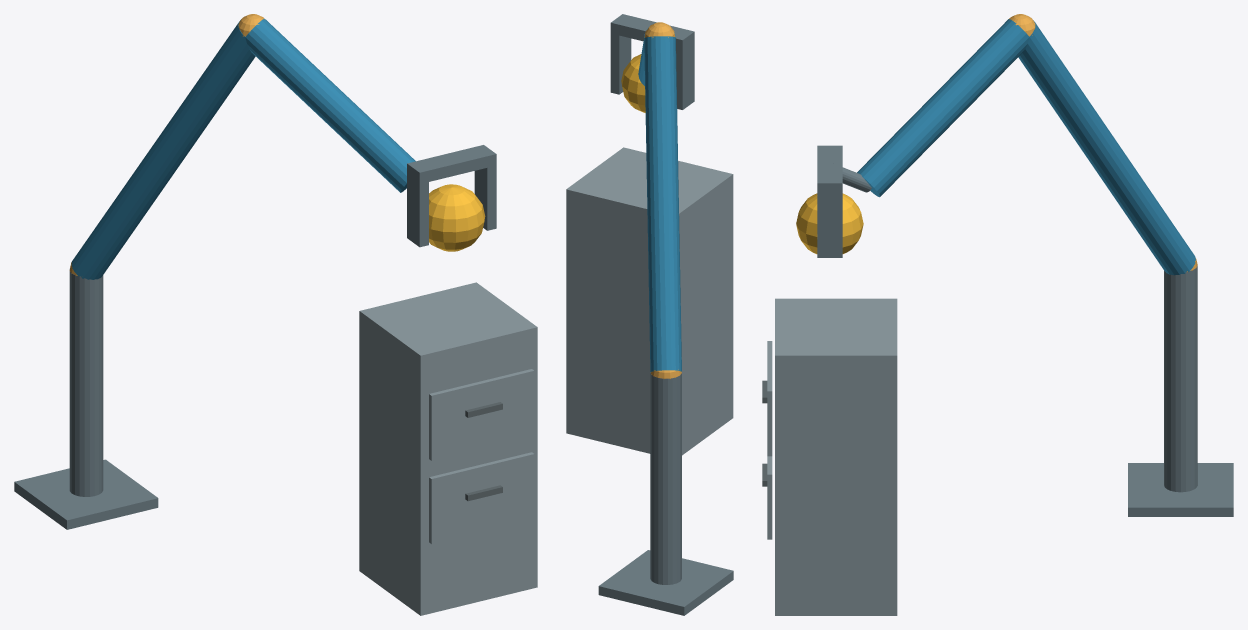
3 views of the same model, side by side, from view 1: azimuth 30°, elevation 25°; view 2: azimuth 150°, elevation 25°; view 3: azimuth 270°, elevation 25° (orthographic). The views are drawn at different scales.
Visible parts, largest first — view 1: cabinet_1 body, moving link 1, fixed post, moving link 2, cabinet_1 drawer front.001, cabinet_1 drawer front, pedestal, ball ball_1, gripper bridge, gripper finger -1, gripper finger 1; view 2: cabinet_1 body, moving link 1, fixed post, pedestal, gripper bridge, gripper finger -1, gripper finger 1, ball ball_1, joint 2; view 3: cabinet_1 body, moving link 1, moving link 2, fixed post, pedestal, ball ball_1, gripper finger 1, gripper bridge, cabinet_1 drawer front.001.
Boxes of the visible parts, left/top/right/bottom form: cabinet_1 body: left=359, top=282, right=537, bottom=615; moving link 1: left=71, top=20, right=255, bottom=279; fixed post: left=69, top=269, right=103, bottom=496; moving link 2: left=245, top=18, right=415, bottom=192; cabinet_1 drawer front.001: left=429, top=369, right=534, bottom=460; cabinet_1 drawer front: left=429, top=452, right=534, bottom=543; pedestal: left=14, top=459, right=158, bottom=529; ball ball_1: left=429, top=184, right=485, bottom=251; gripper bridge: left=407, top=145, right=496, bottom=183; gripper finger -1: left=407, top=175, right=428, bottom=247; gripper finger 1: left=474, top=165, right=496, bottom=230; cabinet_1 body: left=566, top=147, right=733, bottom=455; moving link 1: left=644, top=36, right=681, bottom=372; fixed post: left=650, top=373, right=681, bottom=584; pedestal: left=598, top=550, right=733, bottom=615; gripper bridge: left=610, top=14, right=694, bottom=50; gripper finger -1: left=676, top=42, right=694, bottom=109; gripper finger 1: left=610, top=33, right=631, bottom=94; ball ball_1: left=621, top=54, right=645, bottom=112; joint 2: left=644, top=22, right=675, bottom=39; cabinet_1 body: left=775, top=298, right=897, bottom=615; moving link 1: left=1018, top=20, right=1195, bottom=275; moving link 2: left=857, top=19, right=1029, bottom=197; fixed post: left=1164, top=266, right=1197, bottom=492; pedestal: left=1128, top=463, right=1233, bottom=516; ball ball_1: left=796, top=193, right=863, bottom=254; gripper finger 1: left=817, top=194, right=842, bottom=257; gripper bridge: left=817, top=145, right=842, bottom=194; cabinet_1 drawer front.001: left=767, top=341, right=772, bottom=456.
Bounding box in the file's own units: 0.8043 × 1.36 × 1.12.
